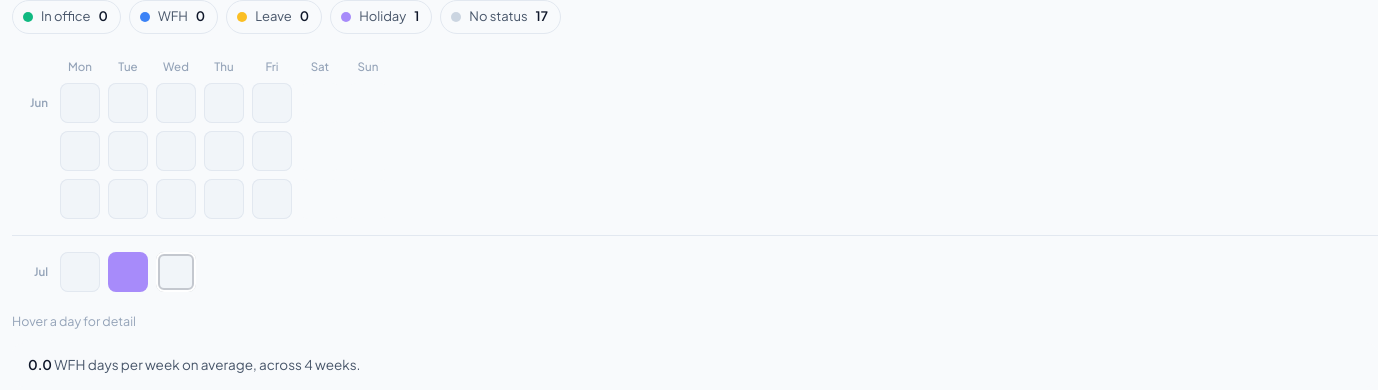
Scenario: CheckInLog holidays › names the holiday on hover
The image size is (1378, 390).
Hover over the picture named "Diwali" at (128, 272), box [108,252,148,292]
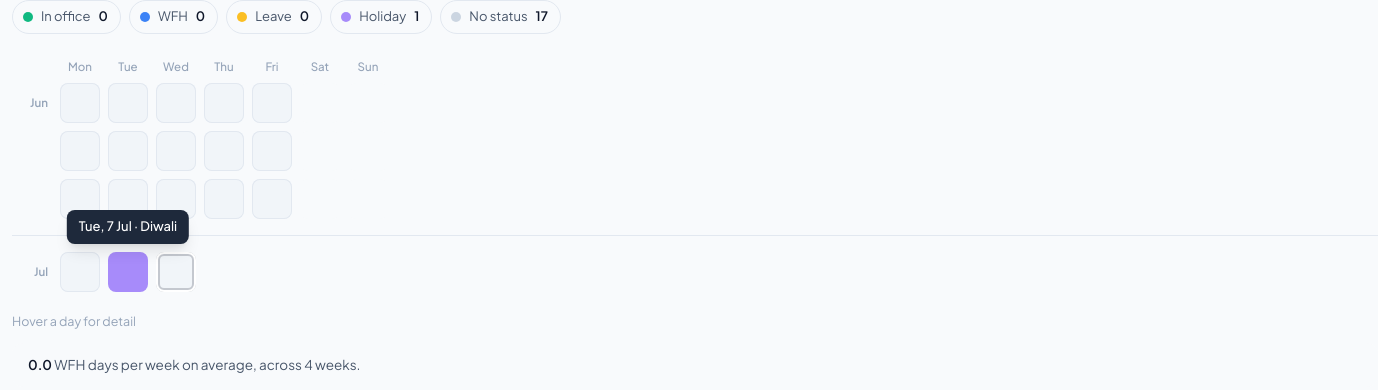
Expected: the tooltip shows "Diwali", [79,218,177,234]
